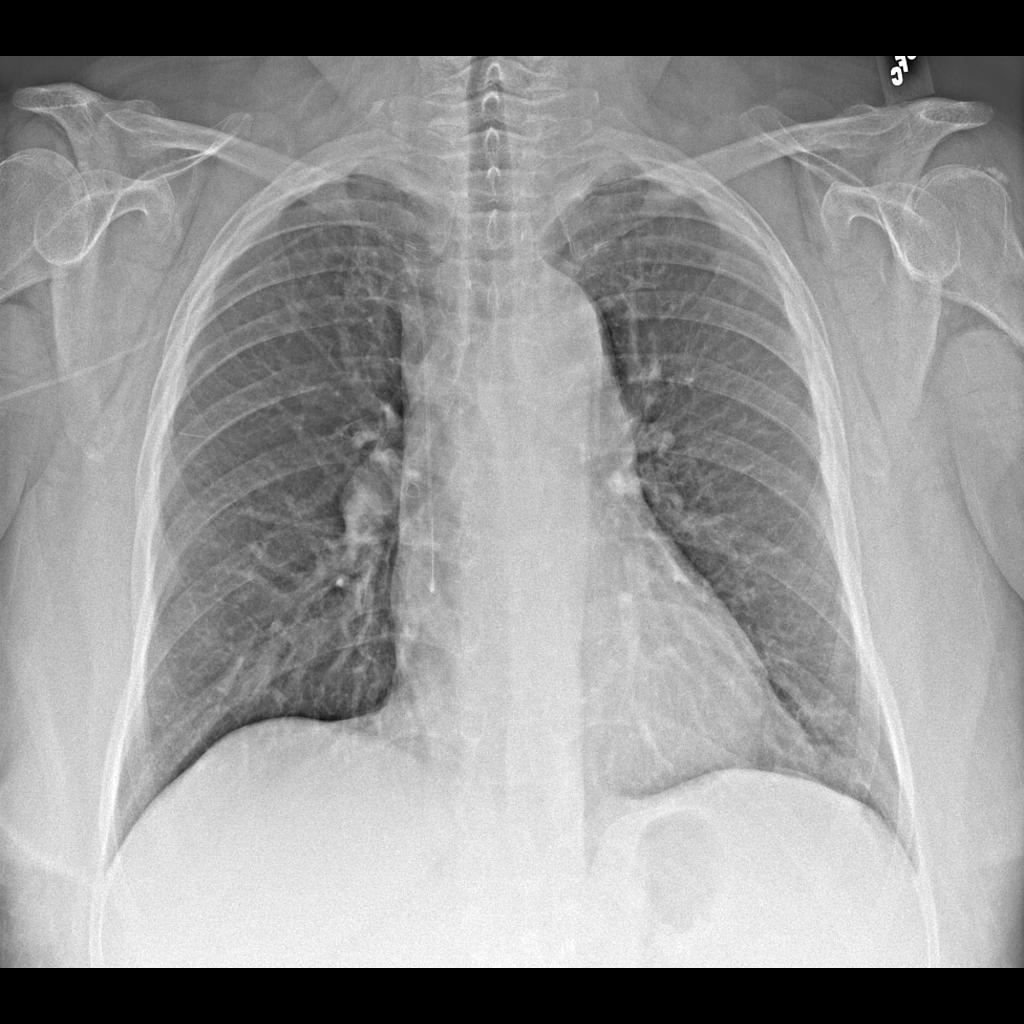Nodule: (604, 468, 651, 507)
